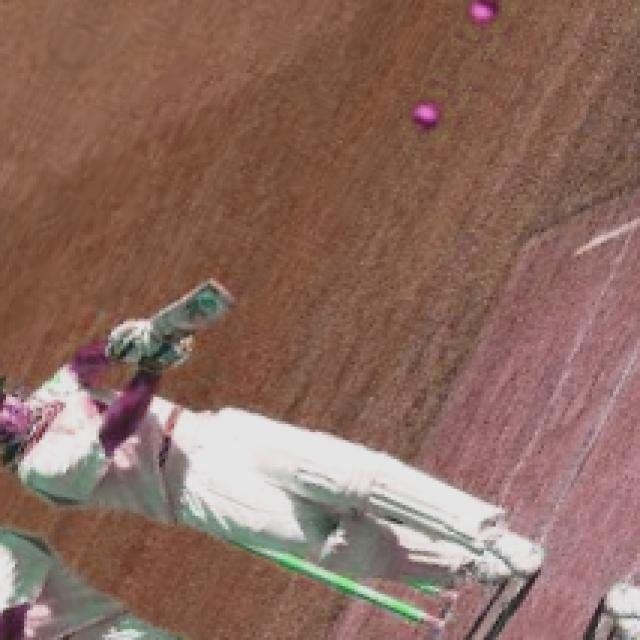toe: (205, 279, 240, 311)
